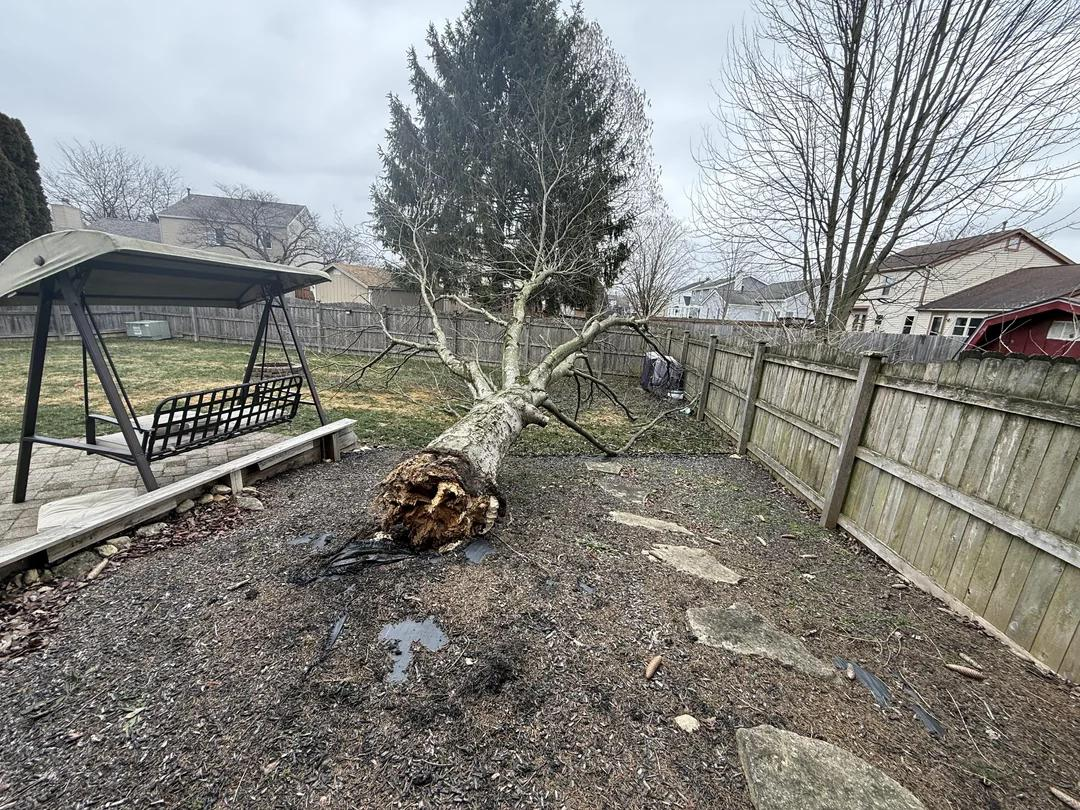mechanical damage: (381, 467, 503, 552)
